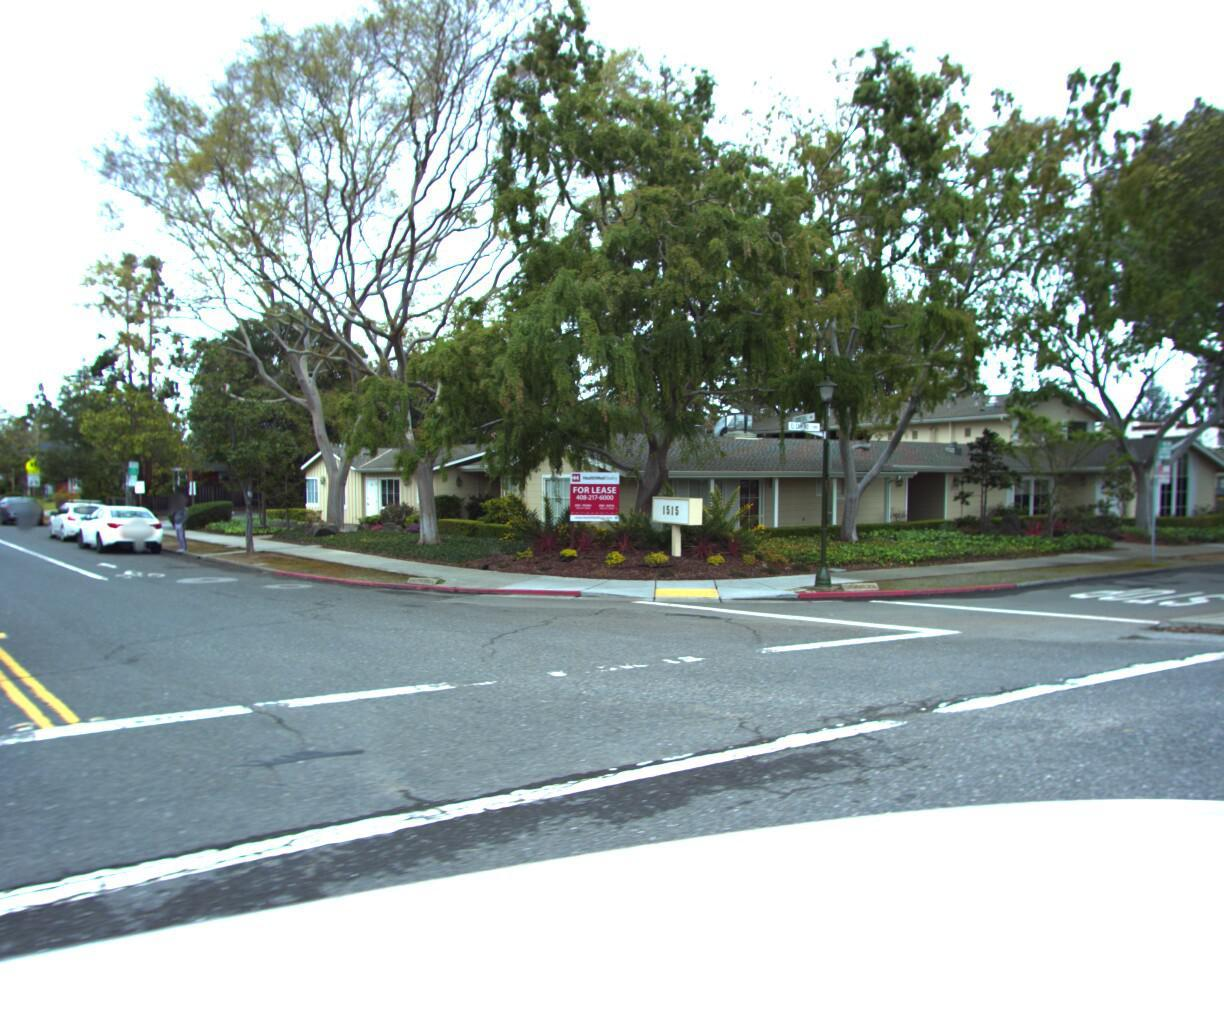car: (63, 501, 173, 559), (35, 497, 119, 543), (0, 494, 49, 527)
